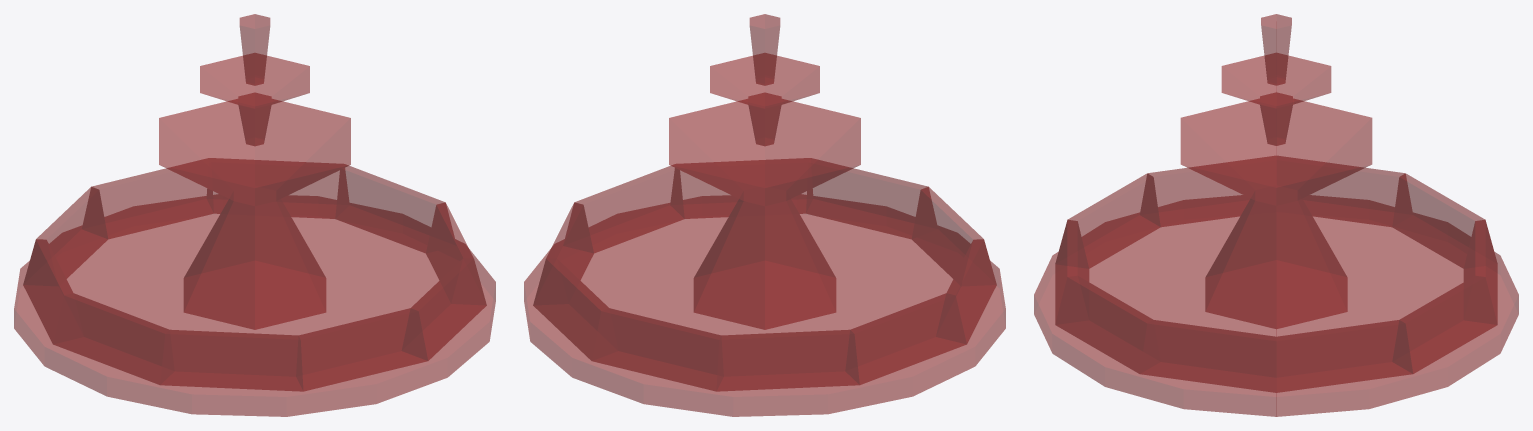
Rendered from SM_Env_Fountain_02_Collision.fbx.
3 renders of one model, left to right at view 1: azimuth 30°, elevation 25°; view 2: azimuth 150°, elevation 25°; view 3: azimuth 270°, elevation 25°, orthographic.
Visible parts, largest first — view 1: SM_Env_Fountain_02_Collision; view 2: SM_Env_Fountain_02_Collision; view 3: SM_Env_Fountain_02_Collision.
Part boxes in pixels (x1,y1,x2,y2): SM_Env_Fountain_02_Collision: (14,14,495,416); SM_Env_Fountain_02_Collision: (524,14,1005,416); SM_Env_Fountain_02_Collision: (1034,14,1518,416).
Size of the model in its own units: 404 by 269 by 404.
